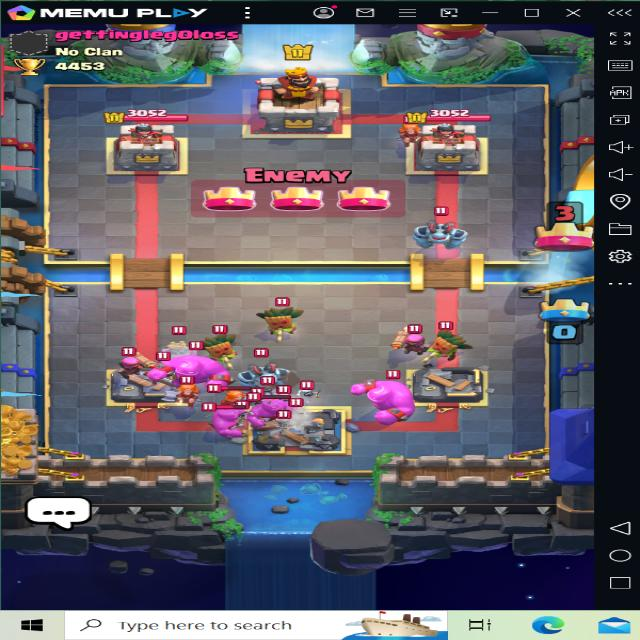dart-goblin: (250, 290, 306, 339), (432, 317, 472, 361), (192, 326, 236, 365)
electro-golem: (340, 371, 447, 425), (142, 339, 244, 382), (256, 384, 307, 428), (195, 398, 250, 433)
firecracker: (389, 320, 432, 355), (104, 344, 144, 379)
mega-minion: (410, 212, 476, 260), (227, 352, 293, 389)
musketeer: (147, 344, 190, 384)
royal-ghost: (140, 332, 190, 372)
skeleton: (287, 377, 328, 400), (270, 381, 295, 400)
valkyrie: (204, 380, 260, 411), (391, 117, 428, 152), (164, 374, 203, 407)
